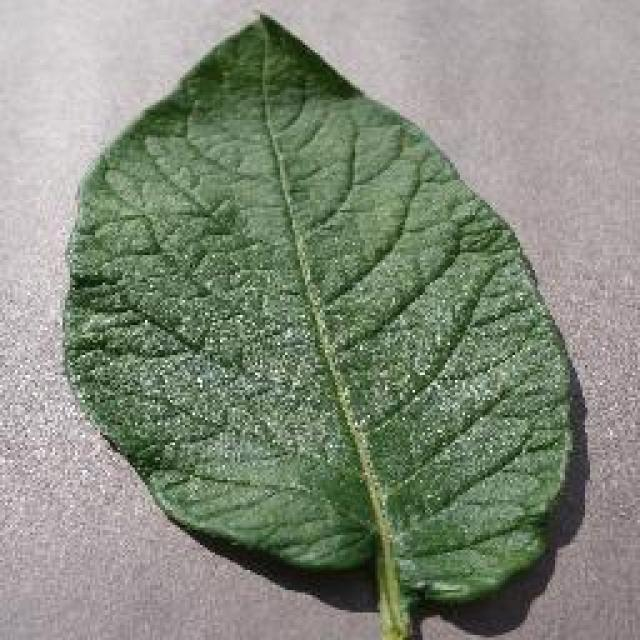Potato___healthy: (60, 12, 583, 638)
